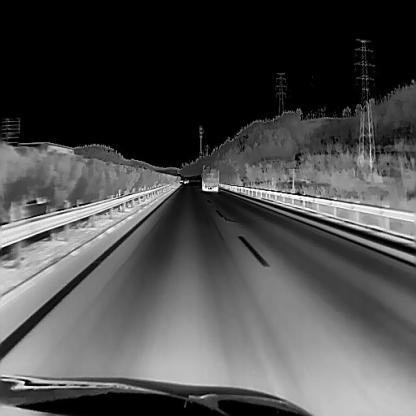car: (200, 163, 219, 191)
